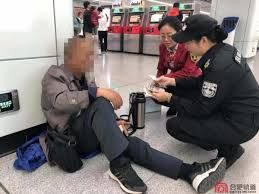fall: (33, 40, 225, 194)
